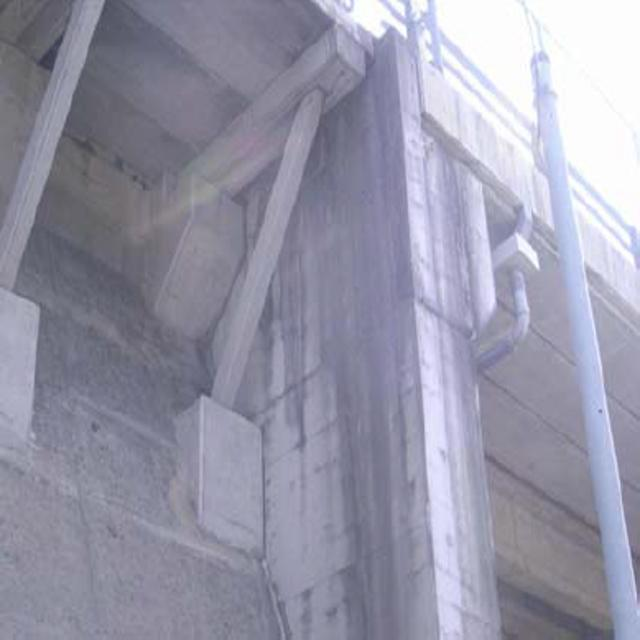leakage: (312, 71, 432, 640)
